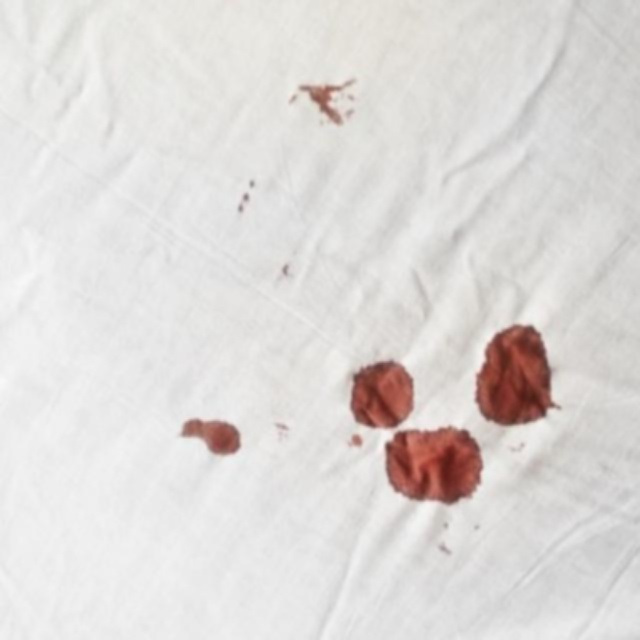blood: (470, 323, 557, 428), (379, 427, 486, 508), (348, 357, 414, 435), (174, 406, 247, 462)
